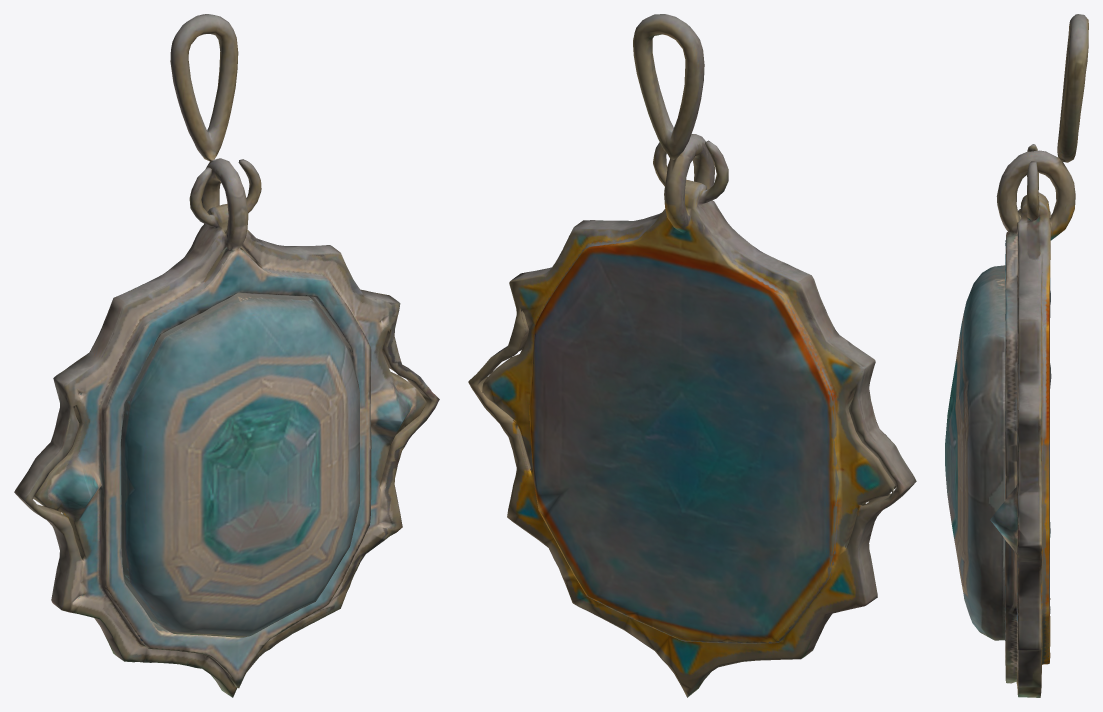
File: low_poly_amulet_normal.glb
The picture shows the model from 3 angles, left to right: view 1: azimuth 30°, elevation 25°; view 2: azimuth 150°, elevation 25°; view 3: azimuth 270°, elevation 25°; orthographic projection. The views are drawn at different scales.
Visible parts, largest first — view 1: file1; view 2: file1; view 3: file1.
Boxes of the visible parts, x1,y1,x2,y2 form: file1: (14, 14, 439, 697); file1: (468, 14, 916, 697); file1: (945, 14, 1088, 697).
Bounding box in the file's own units: 1.32 × 2 × 0.3836.
1 material, 1 textured.
